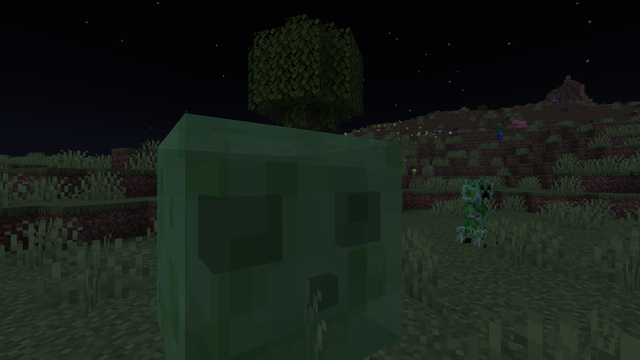cochons: (515, 120, 526, 127)
creepers: (461, 176, 493, 247)
slimes: (103, 102, 376, 354)
zombies: (496, 125, 503, 138)
